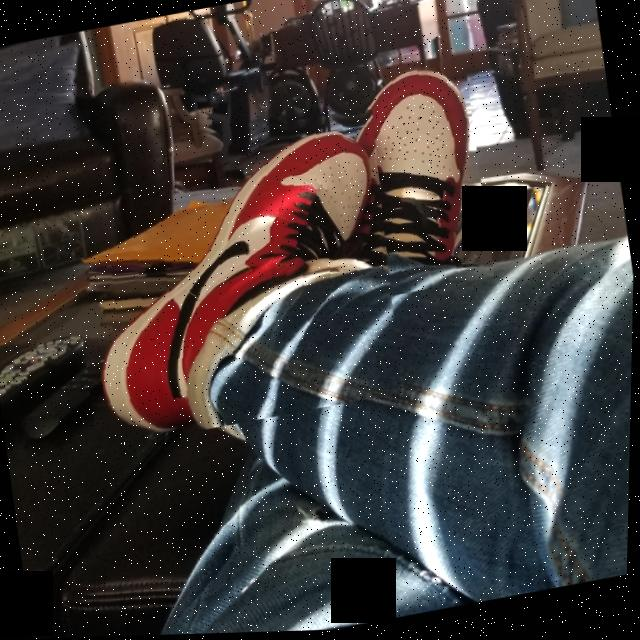shoe: (54, 99, 418, 451), (346, 57, 500, 301)
